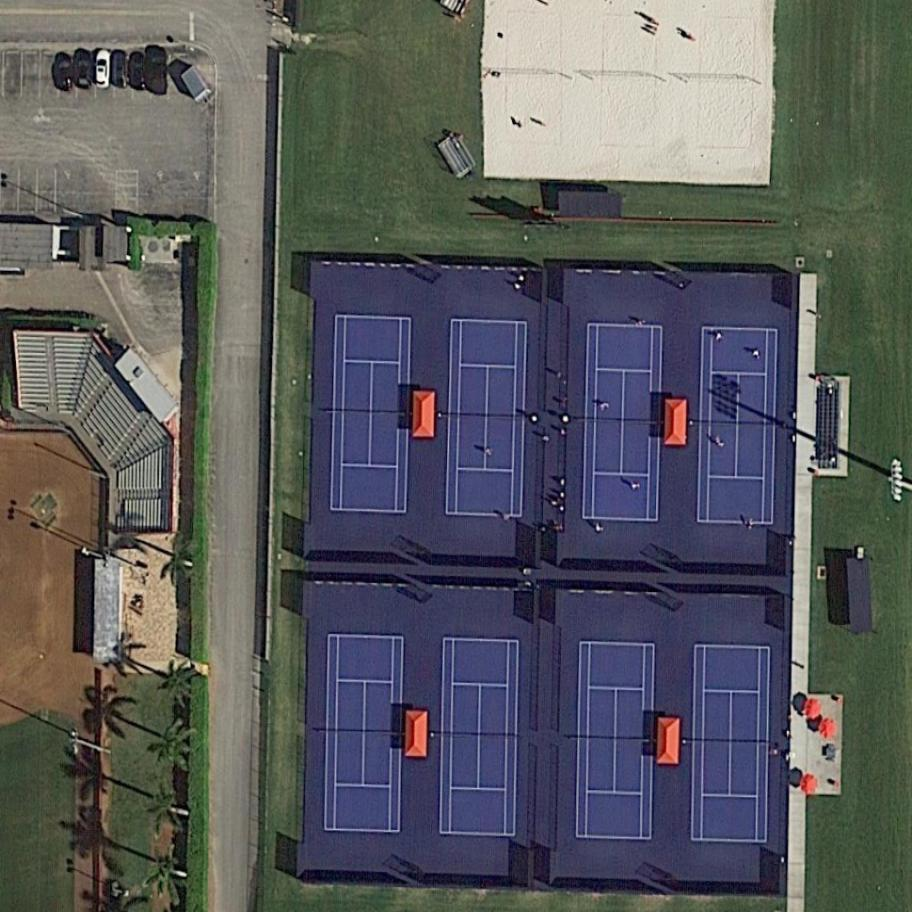small-vehicle: (148, 51, 168, 96), (110, 50, 132, 90), (54, 52, 74, 93), (75, 52, 93, 92), (94, 50, 112, 90), (129, 53, 147, 90)
